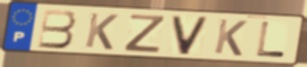B: (37, 8, 79, 50)
K: (212, 17, 250, 58), (83, 11, 121, 51)
L: (255, 20, 288, 59)
V: (170, 15, 211, 57)
Z: (122, 13, 168, 55)
